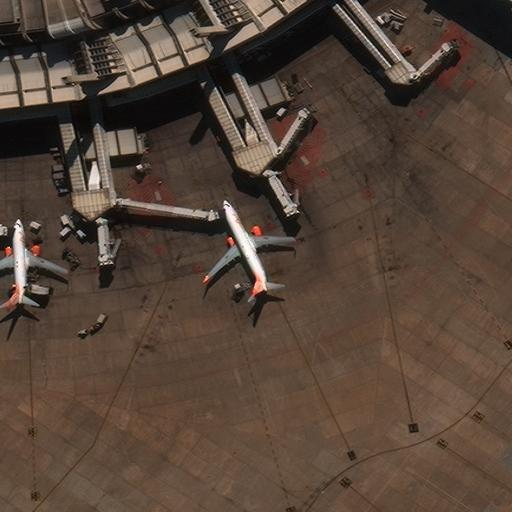Medium Civil Transport: (205, 199, 292, 292), (0, 218, 68, 307)
